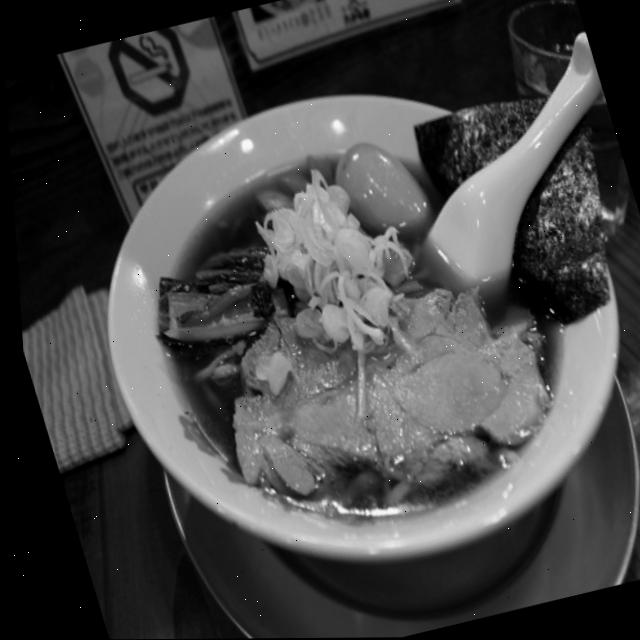面条主食: (47, 15, 640, 634)
